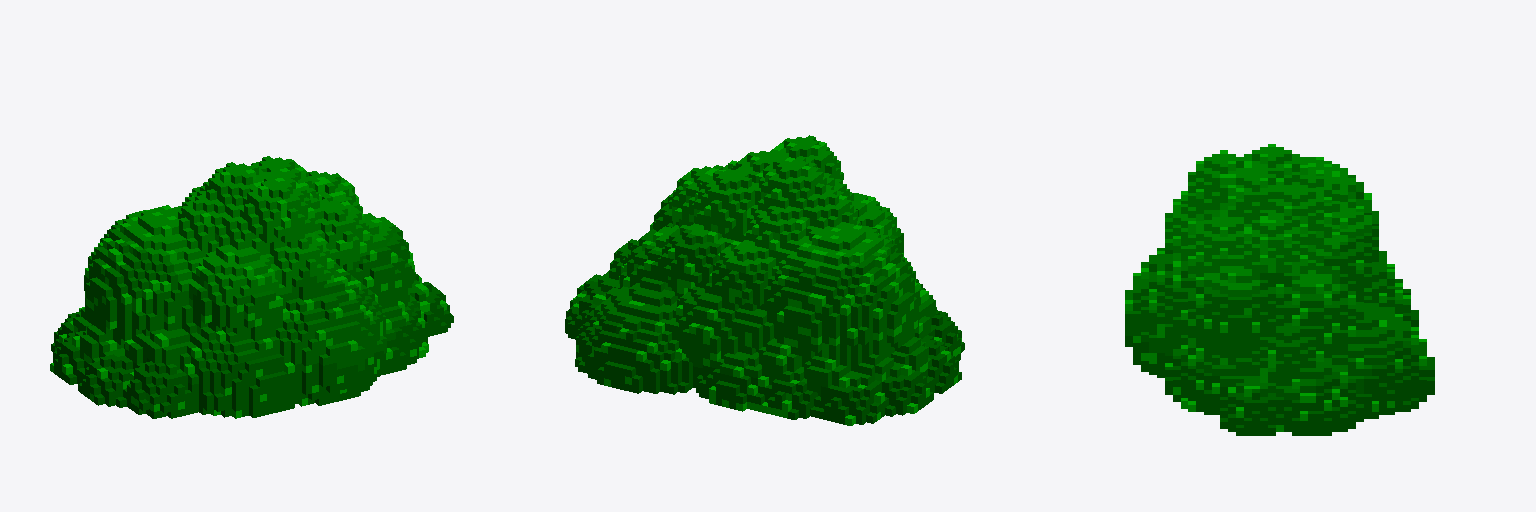
The picture shows the model from 3 angles: view 1: azimuth 30°, elevation 25°; view 2: azimuth 150°, elevation 25°; view 3: azimuth 270°, elevation 25°; orthographic projection.
Visible parts, largest first — view 1: object 1; view 2: object 1; view 3: object 1.
Part boxes in pixels (bbox=[...]): object 1: bbox=[50, 156, 453, 418]; object 1: bbox=[565, 135, 964, 425]; object 1: bbox=[1125, 144, 1434, 435].
Bounding box in the file's own units: 5.1 × 2.6 × 3.9.
Materials: 1 (1 with a texture image).